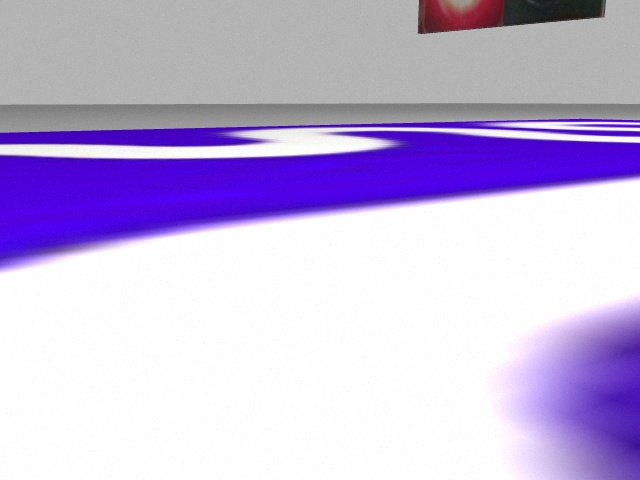red: (417, 1, 502, 29)
